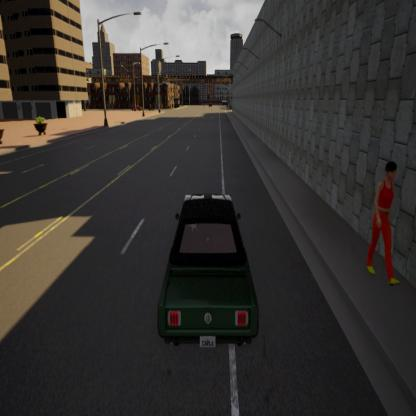Cars: (145, 176, 268, 367)
Pedestrian: (350, 148, 409, 299)
